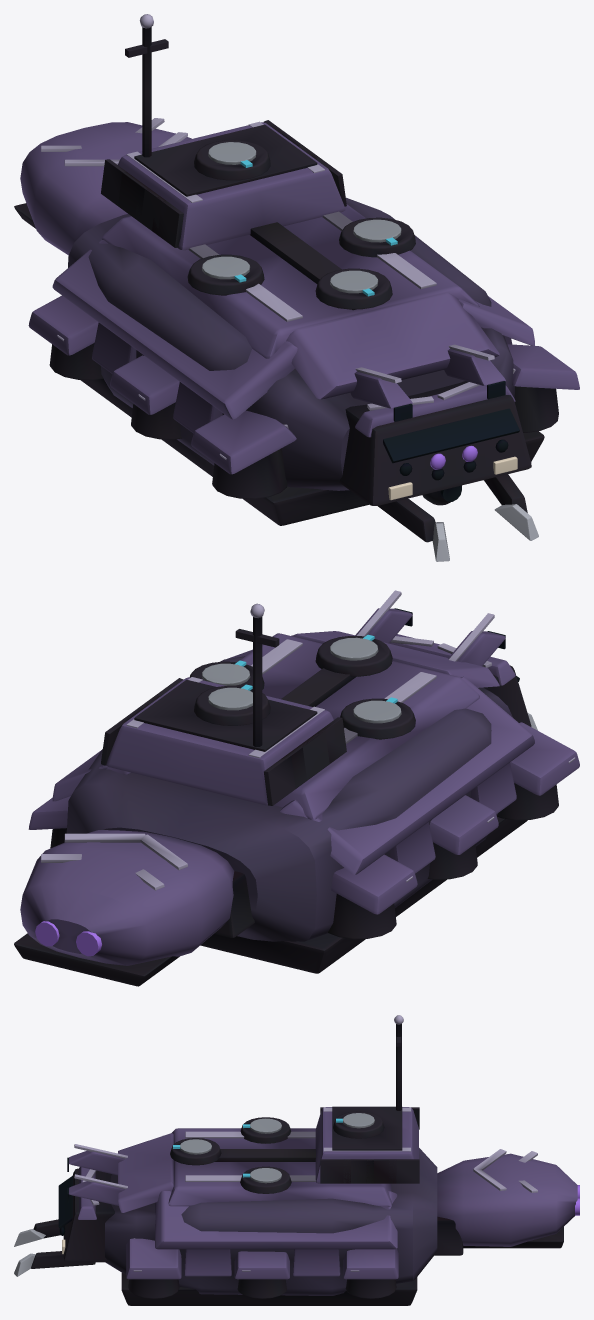
The model's file is ex_strider_7.glb.
The picture shows the model from 3 angles, top to bottom: view 1: azimuth 30°, elevation 25°; view 2: azimuth 150°, elevation 25°; view 3: azimuth 270°, elevation 25°; orthographic projection. The views are drawn at different scales.
Visible parts, largest first — view 1: body; view 2: body; view 3: body.
Boxes of the visible parts, x1,y1,x2,y2 form: body: (14,14,579,561); body: (14,590,579,986); body: (14,1015,579,1305).
Size of the model in its own units: 6.29 by 5.97 by 13.17.
